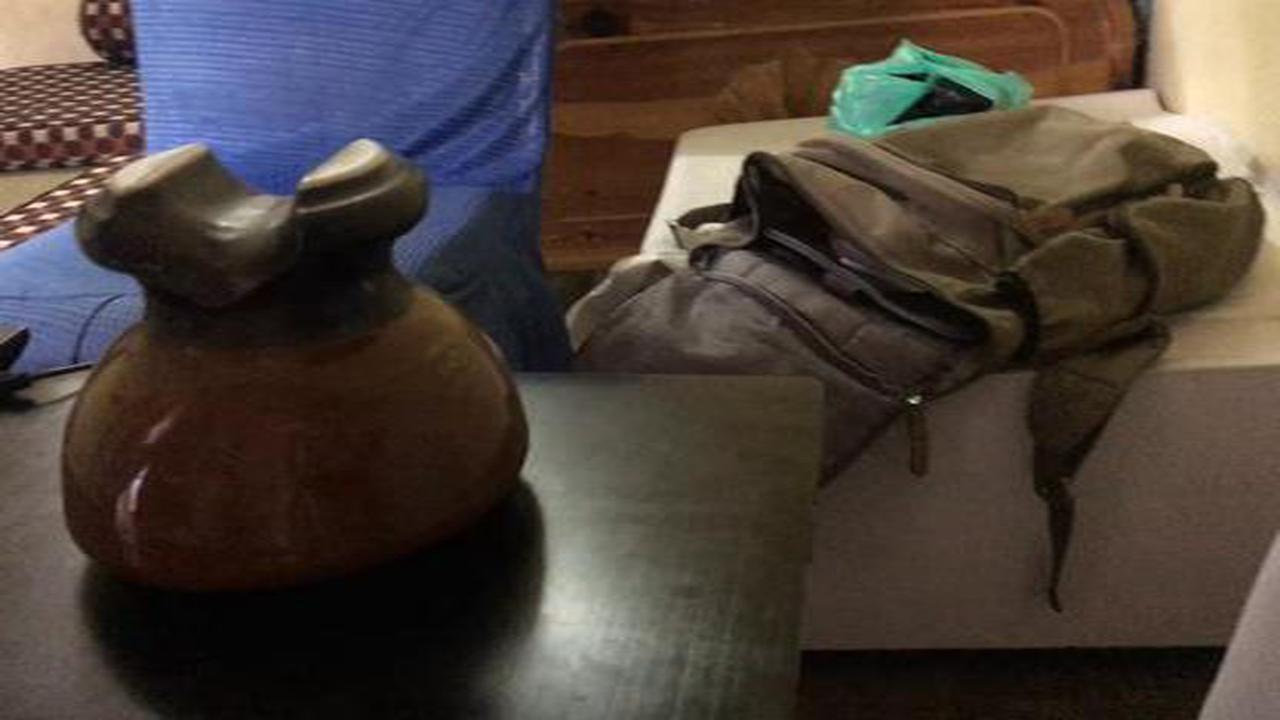insulator_pin: (53, 129, 545, 625)
